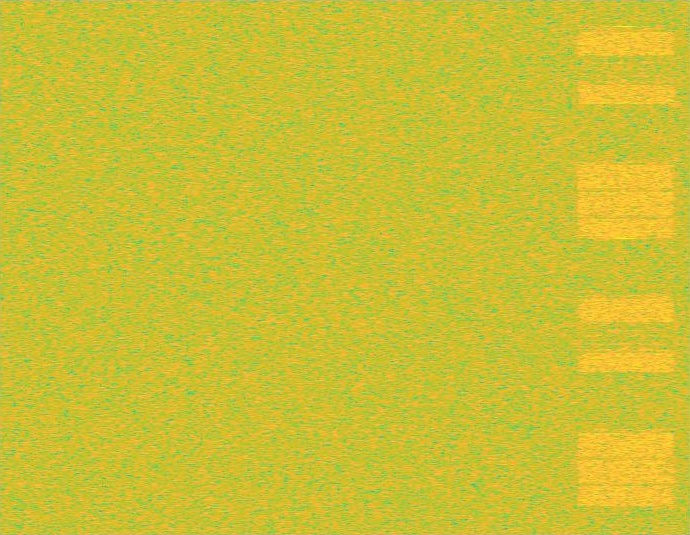LTE: (574, 0, 678, 534)
Radar: (618, 0, 632, 534)
